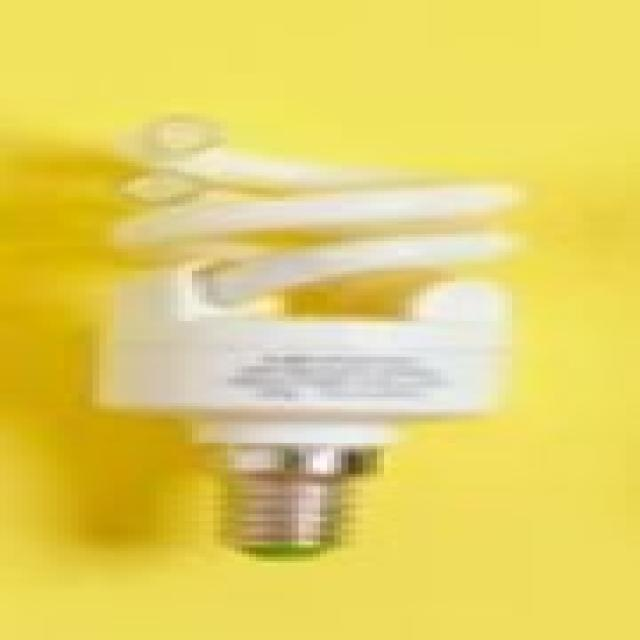electronic: (86, 114, 526, 554)
